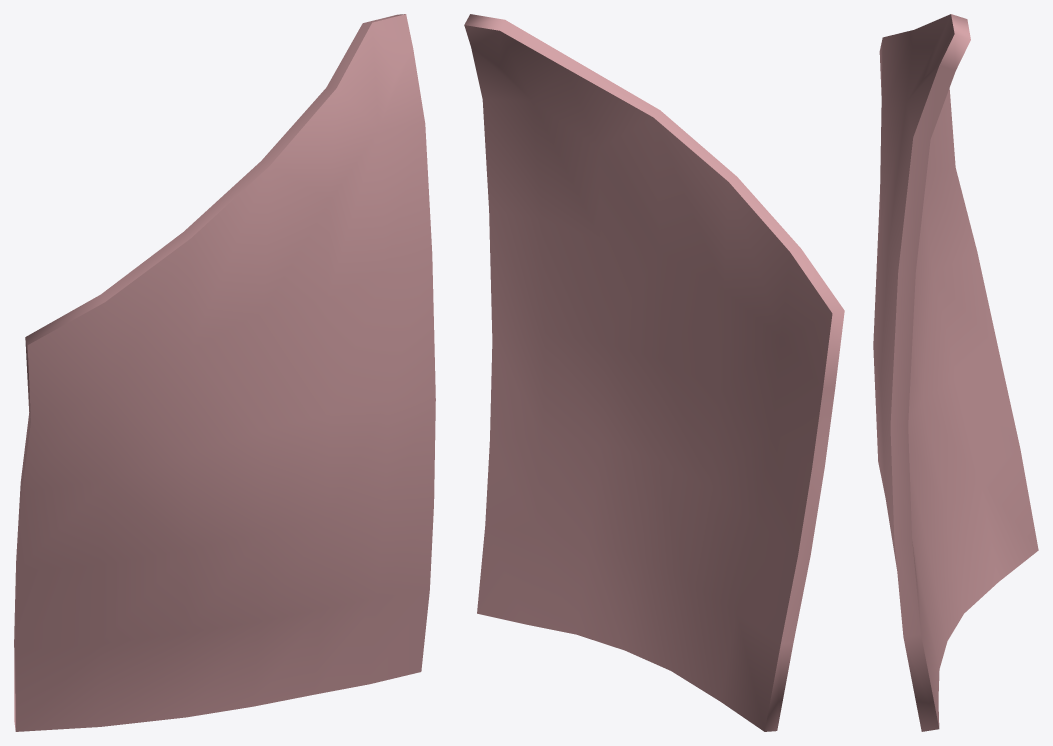
The picture shows the model from 3 angles, left to right: view 1: azimuth 30°, elevation 25°; view 2: azimuth 150°, elevation 25°; view 3: azimuth 270°, elevation 25°; orthographic projection. The views are drawn at different scales.
Parts seen in each view (by area): view 1: ZA_ff0340aba83dc867; view 2: ZA_ff0340aba83dc867; view 3: ZA_ff0340aba83dc867.
Boxes of the visible parts, <box> form: ZA_ff0340aba83dc867: <box>14,14,435,731</box>; ZA_ff0340aba83dc867: <box>464,14,844,731</box>; ZA_ff0340aba83dc867: <box>873,14,1038,731</box>.
Size of the model in its own units: 0.0813 by 0.1308 by 0.0277.
